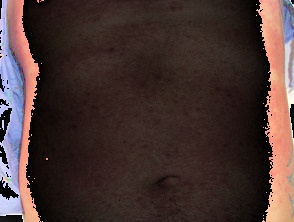SJS-TEN: (6, 0, 294, 222)
